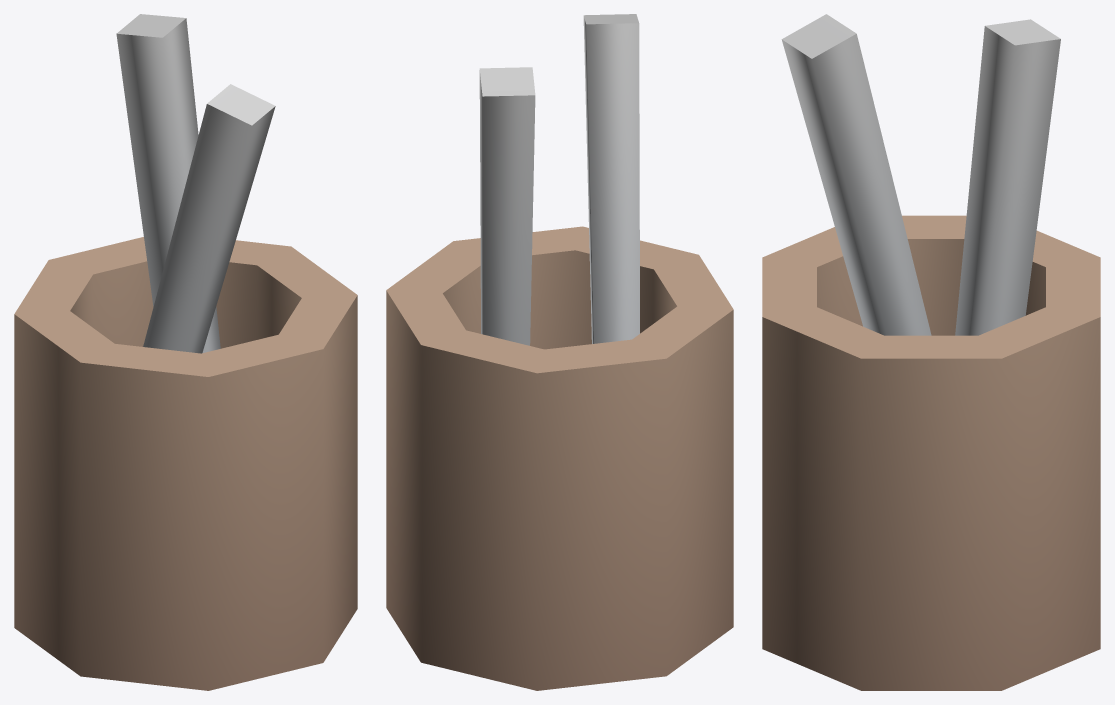
The model's file is essence.glb.
The picture shows the model from 3 angles, left to right: view 1: azimuth 30°, elevation 25°; view 2: azimuth 150°, elevation 25°; view 3: azimuth 270°, elevation 25°; orthographic projection. The views are drawn at different scales.
Parts seen in each view (by area): view 1: essence; view 2: essence; view 3: essence.
Part boxes in pixels (x1=…): essence: x1=14, y1=14, x2=357, y2=690; essence: x1=386, y1=14, x2=733, y2=690; essence: x1=762, y1=14, x2=1100, y2=690.
Bounding box in the file's own units: 0.1386 × 0.2685 × 0.1386.
